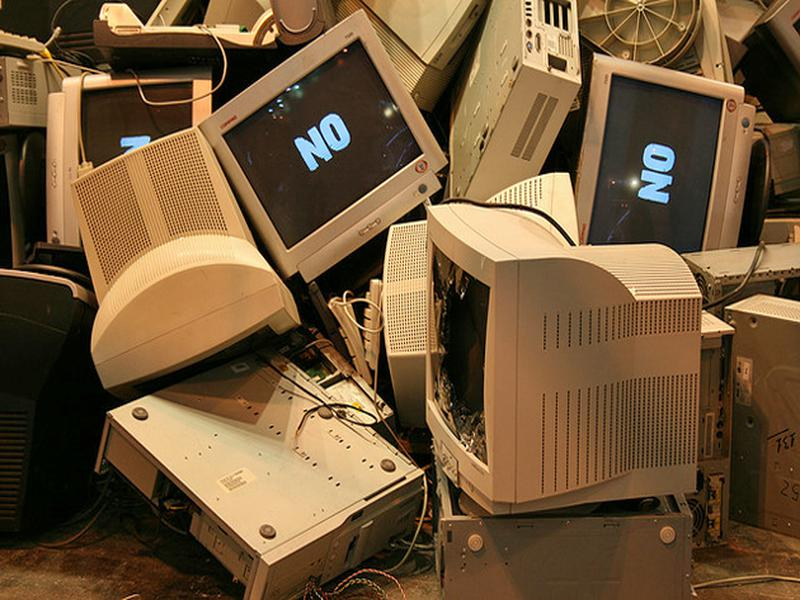tv_pc: (417, 193, 707, 516), (198, 9, 452, 285), (70, 126, 302, 394), (574, 38, 767, 266)
